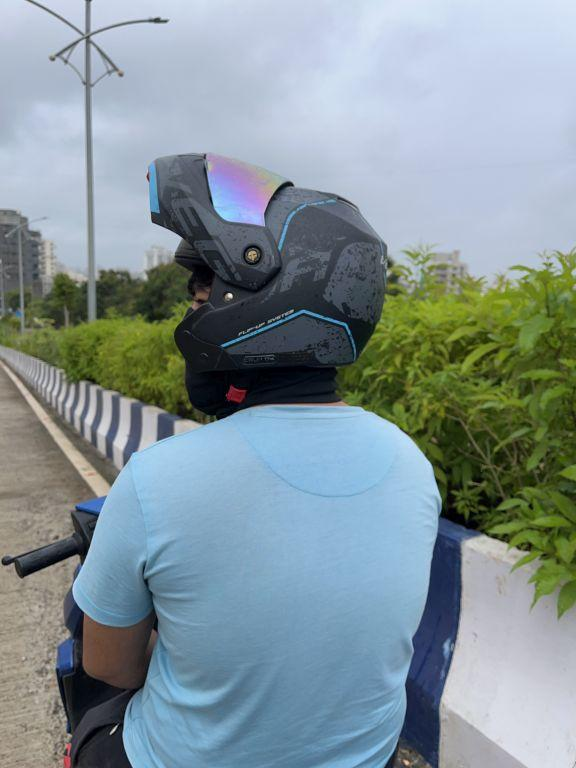helmet: (139, 137, 404, 406)
